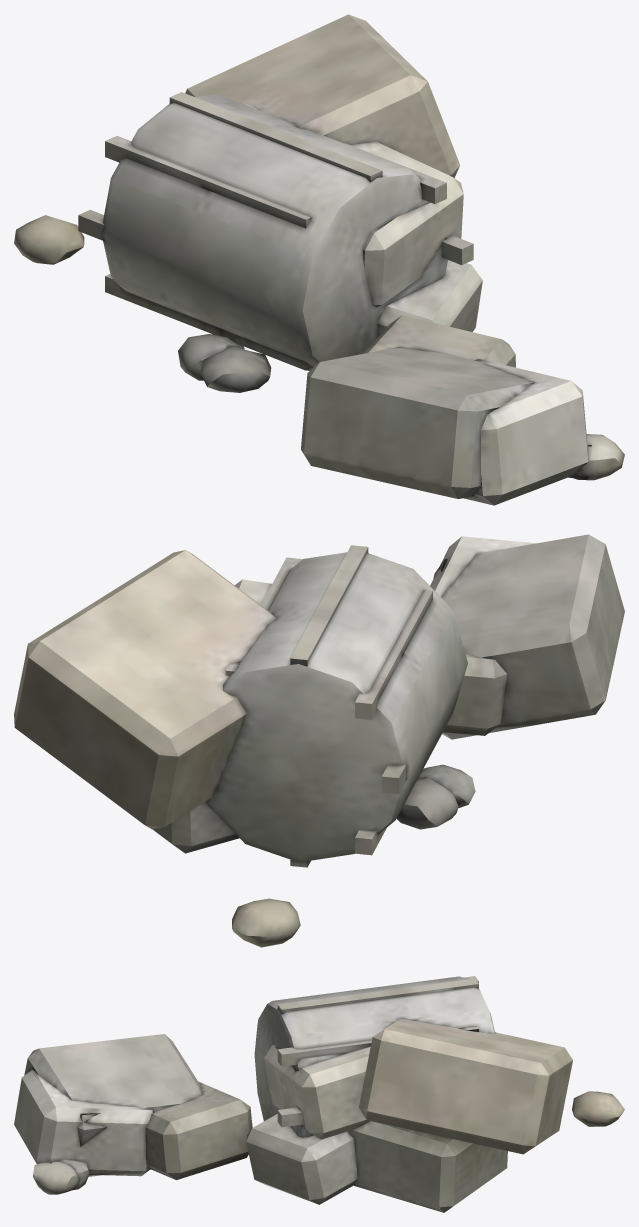
File: kit_rubble.glb
3 views of the same model, one above another, from view 1: azimuth 30°, elevation 25°; view 2: azimuth 150°, elevation 25°; view 3: azimuth 270°, elevation 25° (orthographic). The views are drawn at different scales.
Parts seen in each view (by area): view 1: box; view 2: box; view 3: box.
Part boxes in pixels (bbox=[...]): box: bbox=[14, 14, 624, 505]; box: bbox=[14, 534, 624, 947]; box: bbox=[14, 976, 624, 1212].
Bounding box in the file's own units: 1.16 × 0.7783 × 2.31.
Materials: 1 (1 with a texture image).
